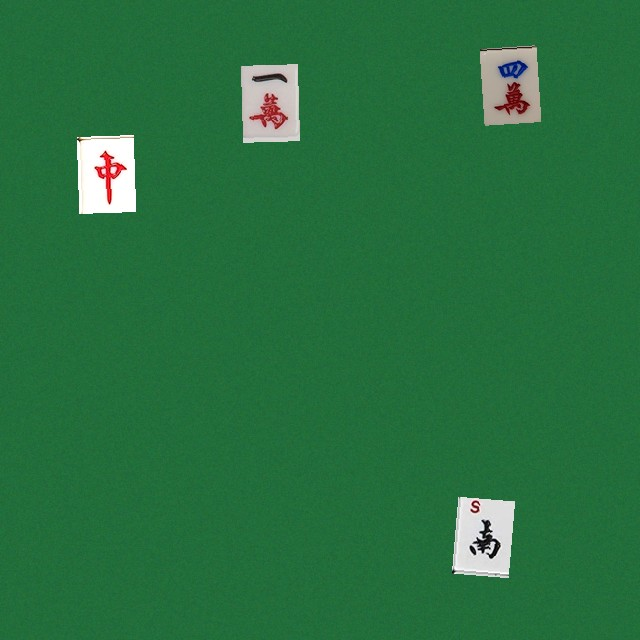tile: (240, 64, 297, 141), (451, 496, 508, 573), (76, 135, 133, 212), (479, 45, 536, 122)
